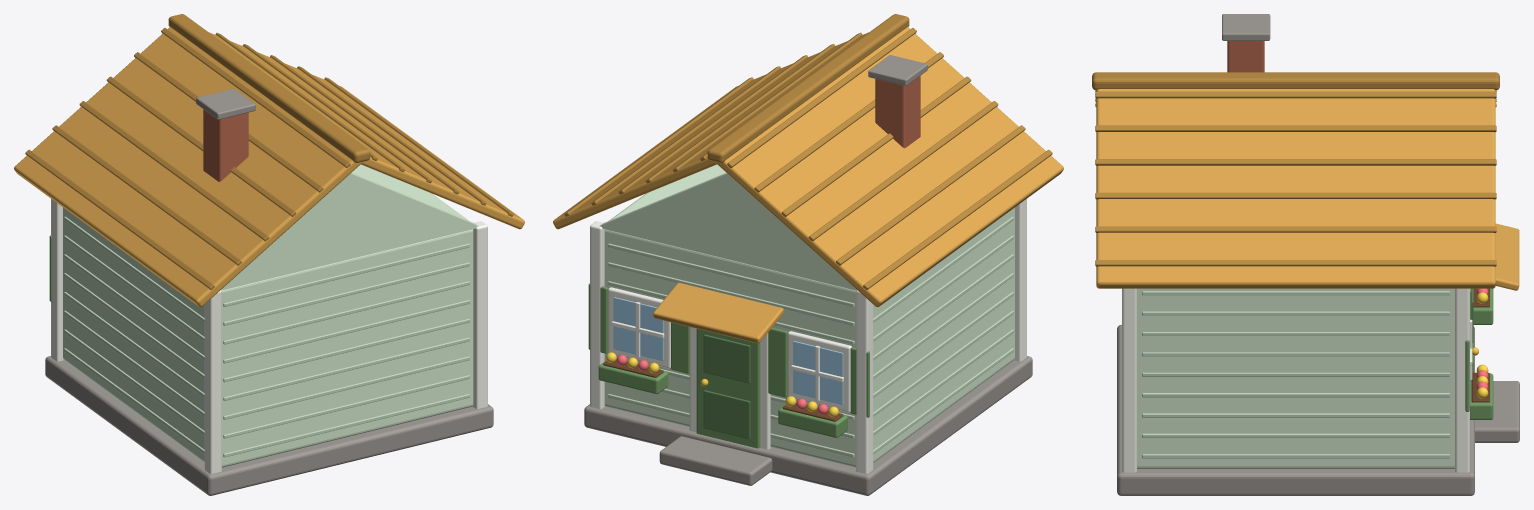
The model's file is house_c.glb.
3 views of the same model, side by side, from view 1: azimuth 30°, elevation 25°; view 2: azimuth 150°, elevation 25°; view 3: azimuth 270°, elevation 25° (orthographic). The views are drawn at different scales.
Parts seen in each view (by area): view 1: house_c; view 2: house_c; view 3: house_c.
Boxes of the visible parts, x1,y1,x2,y2 form: house_c: (14,14,524,495); house_c: (553,14,1063,495); house_c: (1092,14,1519,495).
Bounding box in the file's own units: 4.94 × 4.81 × 5.14.
